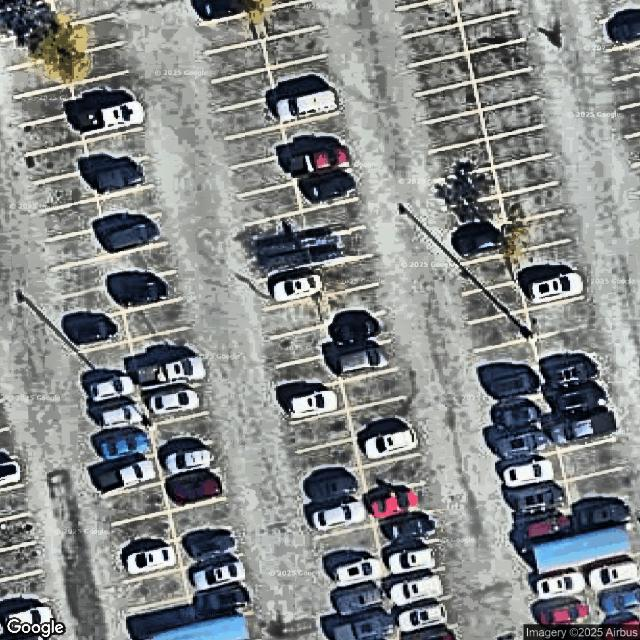car: (565, 496, 633, 538), (541, 408, 616, 445), (92, 212, 160, 252), (484, 424, 550, 464), (78, 154, 145, 193), (541, 380, 609, 417), (501, 479, 566, 517), (357, 418, 417, 459), (538, 354, 601, 392), (78, 101, 145, 135), (377, 513, 436, 550), (324, 608, 392, 640), (164, 469, 224, 505), (303, 467, 355, 508), (381, 569, 440, 605), (91, 427, 150, 462), (487, 399, 545, 433), (291, 146, 350, 179), (325, 341, 382, 375), (180, 528, 238, 561), (451, 222, 503, 257), (193, 582, 248, 615), (330, 581, 383, 615), (526, 271, 582, 303), (145, 357, 204, 387), (298, 170, 353, 202), (309, 498, 362, 531), (532, 598, 592, 627), (92, 398, 146, 430), (383, 544, 435, 577), (329, 310, 379, 343), (329, 554, 380, 586), (190, 560, 242, 591), (84, 371, 136, 402), (367, 488, 417, 520), (4, 606, 52, 638), (125, 545, 175, 575), (110, 457, 158, 488), (146, 388, 198, 416), (276, 95, 336, 119), (397, 604, 446, 633), (588, 561, 637, 590), (536, 571, 585, 600), (161, 449, 212, 475), (598, 587, 639, 619), (114, 277, 162, 303), (271, 273, 317, 300), (606, 8, 640, 44), (288, 389, 331, 415), (71, 317, 112, 343), (526, 515, 571, 538), (193, 0, 243, 20), (0, 461, 20, 487)
lot_boundary: (0, 0, 640, 640)
objects: (529, 524, 634, 576), (136, 614, 248, 639)
stall: (130, 323, 196, 374), (236, 179, 304, 225), (507, 240, 578, 284), (543, 381, 612, 426), (549, 408, 617, 453), (68, 68, 136, 112), (535, 322, 600, 368), (383, 569, 449, 614), (489, 424, 558, 467), (81, 127, 146, 172), (375, 510, 438, 556), (499, 452, 568, 494), (320, 522, 380, 570), (568, 465, 632, 510), (170, 494, 231, 541), (123, 297, 188, 341), (311, 307, 373, 353), (65, 40, 127, 86), (110, 241, 176, 284), (60, 283, 123, 328), (116, 510, 176, 557), (212, 66, 276, 110), (312, 496, 376, 540), (56, 13, 120, 57), (77, 98, 142, 141), (400, 25, 468, 66), (506, 481, 574, 522), (481, 335, 540, 382), (229, 155, 295, 197), (178, 525, 241, 569), (467, 41, 530, 85), (560, 439, 623, 483), (296, 165, 356, 211), (26, 142, 90, 185), (520, 270, 584, 313), (539, 353, 603, 396), (136, 355, 203, 396), (362, 453, 423, 498), (221, 96, 283, 140), (163, 466, 225, 510), (317, 255, 379, 299), (473, 70, 535, 114), (153, 411, 212, 457), (42, 197, 105, 240), (46, 227, 110, 269), (354, 426, 418, 468), (430, 139, 494, 181), (248, 210, 309, 254), (301, 437, 362, 481), (207, 39, 269, 82), (228, 124, 290, 167), (76, 341, 138, 384), (309, 227, 371, 270), (292, 409, 354, 452), (3, 27, 65, 70), (182, 555, 247, 596), (326, 313, 391, 354), (394, 598, 459, 639), (20, 113, 83, 155), (276, 85, 339, 127), (494, 155, 557, 197), (513, 508, 576, 550), (421, 82, 481, 126), (283, 112, 344, 155), (527, 296, 585, 341), (90, 157, 152, 199), (119, 269, 181, 311), (68, 313, 130, 355), (159, 440, 221, 482), (108, 481, 170, 523), (482, 97, 541, 141), (125, 595, 195, 632), (35, 171, 98, 212), (95, 186, 158, 227), (257, 0, 320, 41), (254, 237, 314, 280), (489, 127, 550, 169), (1, 599, 65, 639), (104, 216, 166, 257), (271, 55, 333, 96), (190, 579, 255, 618), (53, 256, 116, 296), (326, 284, 386, 326), (335, 340, 398, 380), (343, 369, 403, 411), (306, 465, 366, 507), (368, 481, 428, 523), (506, 211, 566, 253), (291, 142, 352, 183), (145, 383, 206, 424), (122, 540, 180, 583), (447, 196, 505, 239), (101, 455, 163, 495), (268, 296, 330, 336), (281, 356, 343, 396), (264, 27, 323, 69), (464, 12, 523, 54), (439, 167, 498, 209), (10, 56, 69, 98), (17, 83, 77, 124), (349, 398, 409, 439), (466, 282, 526, 323), (94, 424, 155, 464), (471, 311, 532, 351), (304, 198, 363, 239), (501, 184, 561, 224), (491, 395, 549, 436), (384, 540, 443, 580), (400, 0, 462, 38), (413, 55, 475, 93), (128, 570, 188, 609), (275, 325, 334, 364), (204, 11, 260, 52), (333, 554, 389, 595), (292, 382, 347, 423), (428, 112, 487, 150), (576, 496, 635, 534), (463, 255, 519, 295), (586, 555, 639, 597), (534, 593, 591, 632), (93, 393, 151, 431), (328, 582, 388, 618), (86, 369, 141, 408), (531, 566, 587, 604), (588, 584, 639, 625), (0, 571, 49, 613), (489, 368, 543, 406), (4, 0, 58, 38), (457, 226, 510, 264), (51, 0, 110, 31), (331, 612, 396, 639), (600, 5, 639, 49), (1, 541, 43, 579), (191, 0, 247, 26), (456, 0, 516, 23), (0, 513, 34, 551), (607, 42, 639, 82), (0, 485, 28, 519), (615, 72, 639, 110), (0, 456, 22, 489)
